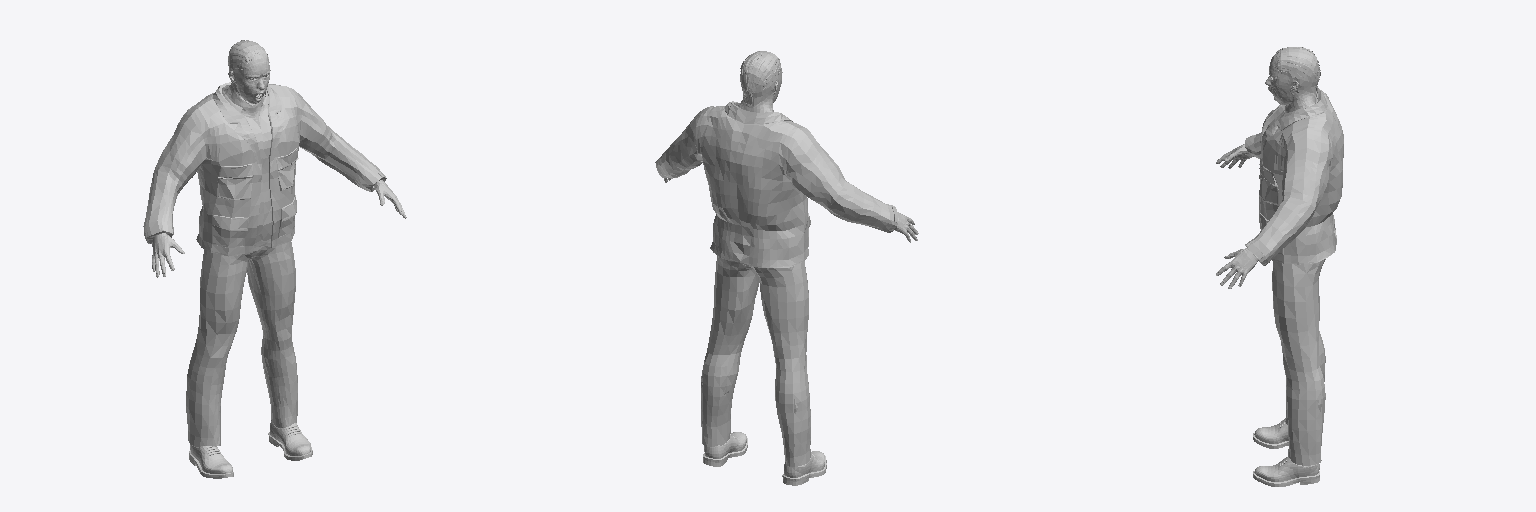
3 views of the same model, side by side, from view 1: azimuth 30°, elevation 25°; view 2: azimuth 150°, elevation 25°; view 3: azimuth 270°, elevation 25° (orthographic).
Parts seen in each view (by area): view 1: Ml1:Male_casualsuit05, Ml1:Body, Ml1:Shoes03, Ml1:Short04; view 2: Ml1:Male_casualsuit05, Ml1:Short04, Ml1:Shoes03, Ml1:Body; view 3: Ml1:Male_casualsuit05, Ml1:Body, Ml1:Shoes03, Ml1:Short04.
Boxes of the visible parts, <box> form: Ml1:Male_casualsuit05: <box>143,82,386,446</box>; Ml1:Body: <box>152,61,406,277</box>; Ml1:Shoes03: <box>189,420,312,478</box>; Ml1:Short04: <box>228,40,269,85</box>; Ml1:Male_casualsuit05: <box>655,101,898,466</box>; Ml1:Short04: <box>740,51,781,107</box>; Ml1:Shoes03: <box>703,432,826,485</box>; Ml1:Body: <box>664,72,918,242</box>; Ml1:Male_casualsuit05: <box>1245,87,1343,465</box>; Ml1:Body: <box>1216,59,1316,288</box>; Ml1:Shoes03: <box>1253,418,1319,486</box>; Ml1:Short04: <box>1272,47,1320,95</box>.
Bounding box in the file's own units: 1.31 × 2.08 × 0.5843.